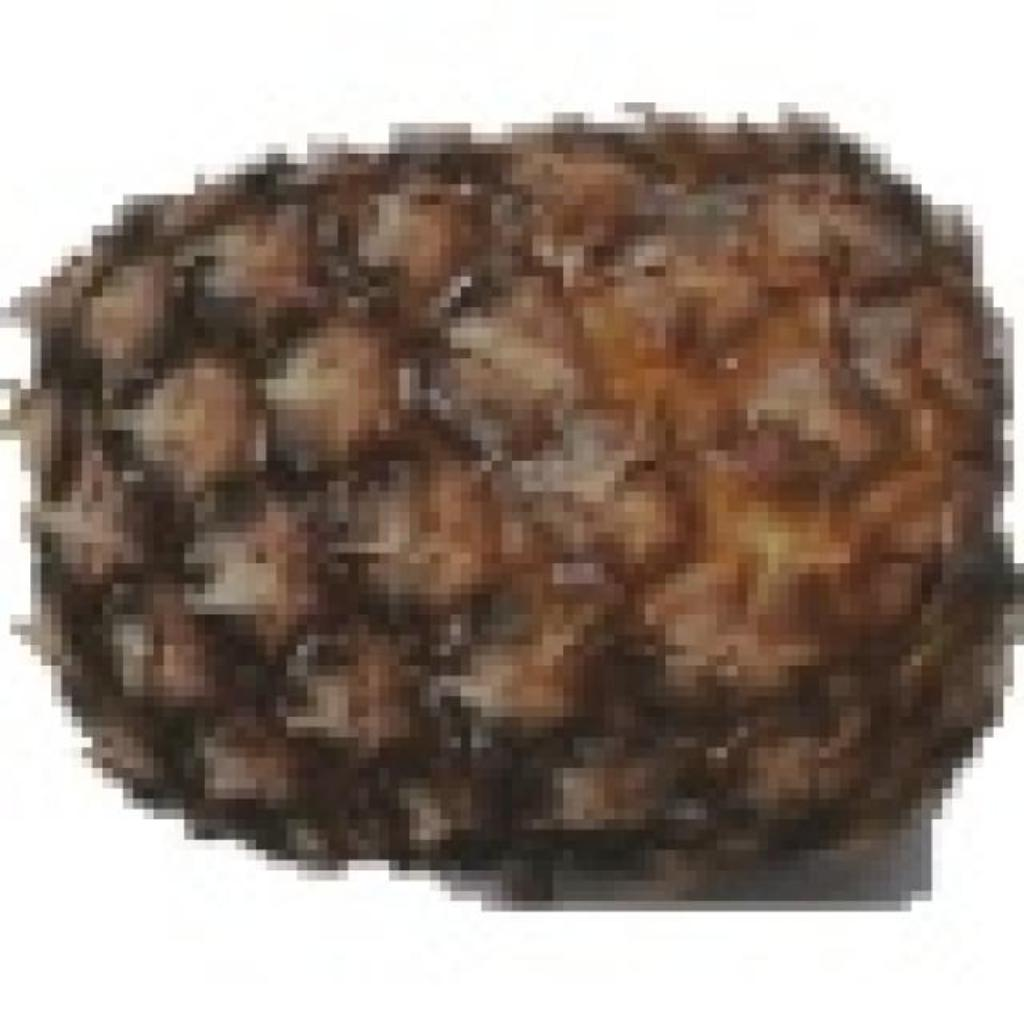pineapple: (20, 102, 983, 840)
